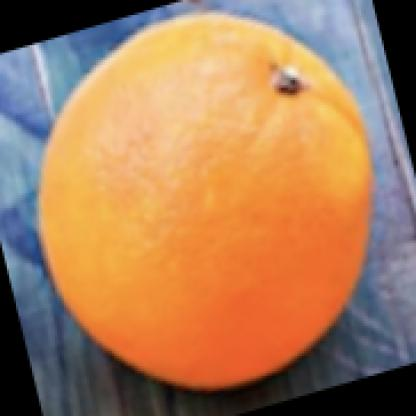orange: (31, 14, 374, 385)
